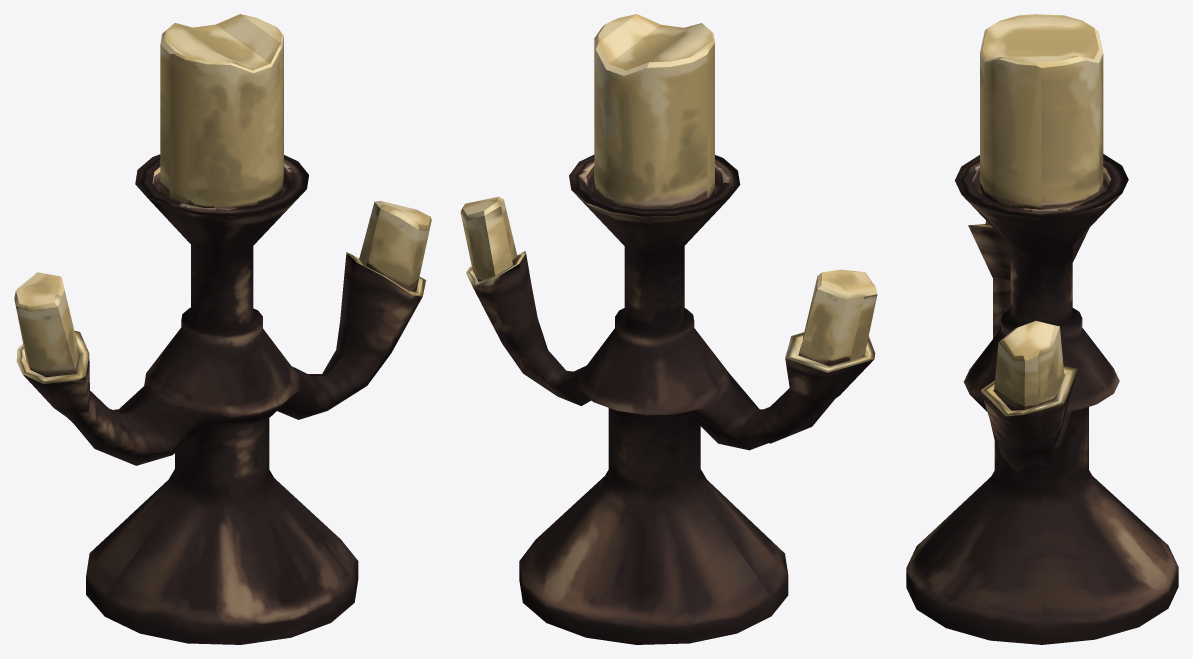
The model's file is Kandelaar.fbx.
The picture shows the model from 3 angles, left to right: view 1: azimuth 30°, elevation 25°; view 2: azimuth 150°, elevation 25°; view 3: azimuth 270°, elevation 25°; orthographic projection.
Parts seen in each view (by area): view 1: pCylinder1; view 2: pCylinder1; view 3: pCylinder1.
Boxes of the visible parts, bbox=[...] form: pCylinder1: bbox=[14, 14, 431, 644]; pCylinder1: bbox=[460, 14, 877, 644]; pCylinder1: bbox=[906, 14, 1178, 644].
Size of the model in its own units: 3.52 by 4.46 by 2.01.
